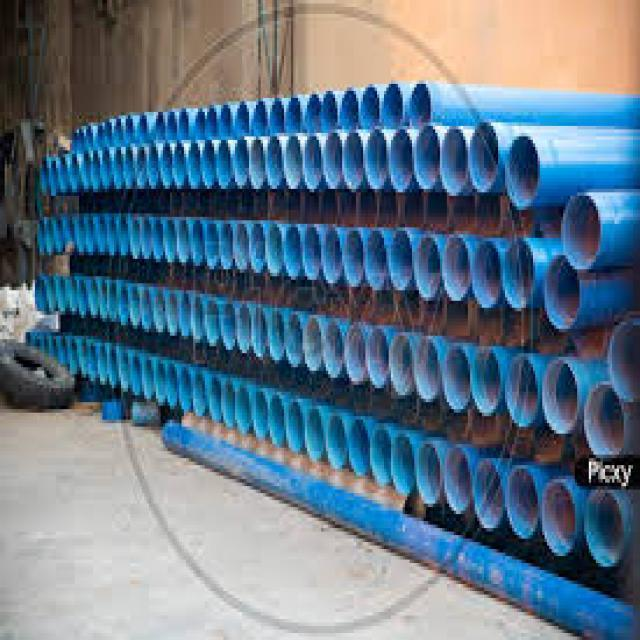pipe: (585, 492, 629, 566), (561, 192, 603, 267), (584, 381, 624, 459), (543, 481, 581, 558), (542, 361, 578, 436), (543, 257, 581, 328), (506, 134, 542, 208), (505, 357, 538, 429), (610, 322, 640, 398), (506, 468, 540, 535), (504, 235, 534, 306), (442, 234, 472, 300), (473, 240, 503, 305), (473, 461, 503, 526), (472, 350, 502, 413), (470, 122, 497, 191), (441, 125, 468, 194), (442, 348, 471, 411), (414, 233, 440, 300), (413, 338, 441, 400), (445, 446, 471, 510), (415, 127, 440, 190), (389, 129, 413, 193), (390, 336, 413, 398), (418, 443, 442, 502), (365, 129, 388, 190), (345, 323, 367, 384), (393, 433, 416, 491), (370, 422, 391, 485), (391, 228, 413, 288), (366, 230, 387, 292), (343, 228, 365, 287), (367, 333, 389, 391), (350, 418, 371, 474), (344, 132, 364, 188), (305, 408, 326, 461), (326, 416, 347, 469), (320, 229, 342, 279), (283, 222, 302, 279), (324, 133, 343, 188), (409, 80, 431, 127), (303, 136, 322, 190), (285, 313, 303, 366), (270, 305, 287, 361), (284, 137, 302, 189), (324, 321, 341, 376), (286, 402, 305, 450), (305, 318, 322, 371), (304, 227, 321, 279), (267, 137, 284, 188), (383, 86, 403, 129), (251, 223, 268, 273), (253, 390, 269, 442), (268, 221, 283, 275), (206, 214, 221, 266), (271, 393, 285, 448), (235, 138, 251, 186), (204, 296, 220, 343), (250, 139, 265, 189), (236, 384, 252, 430), (253, 306, 267, 357), (201, 137, 215, 186), (190, 216, 204, 263), (235, 222, 249, 269), (173, 138, 187, 185), (270, 93, 286, 134), (238, 302, 251, 352), (218, 140, 232, 185), (180, 365, 194, 409), (209, 375, 223, 418), (254, 98, 270, 135), (223, 294, 234, 347), (195, 368, 207, 416), (180, 291, 193, 335), (221, 221, 233, 268), (224, 381, 236, 428), (167, 290, 180, 332), (166, 360, 178, 403), (188, 140, 200, 183), (178, 216, 189, 262), (236, 102, 251, 135), (161, 143, 172, 186), (148, 146, 160, 185), (154, 112, 168, 145), (142, 218, 154, 256), (193, 294, 203, 339), (154, 290, 165, 330), (166, 217, 176, 259), (136, 148, 147, 186), (221, 105, 234, 137), (208, 105, 220, 139), (195, 106, 207, 139), (154, 218, 164, 257), (136, 113, 148, 143), (168, 111, 178, 144), (180, 111, 191, 140)
